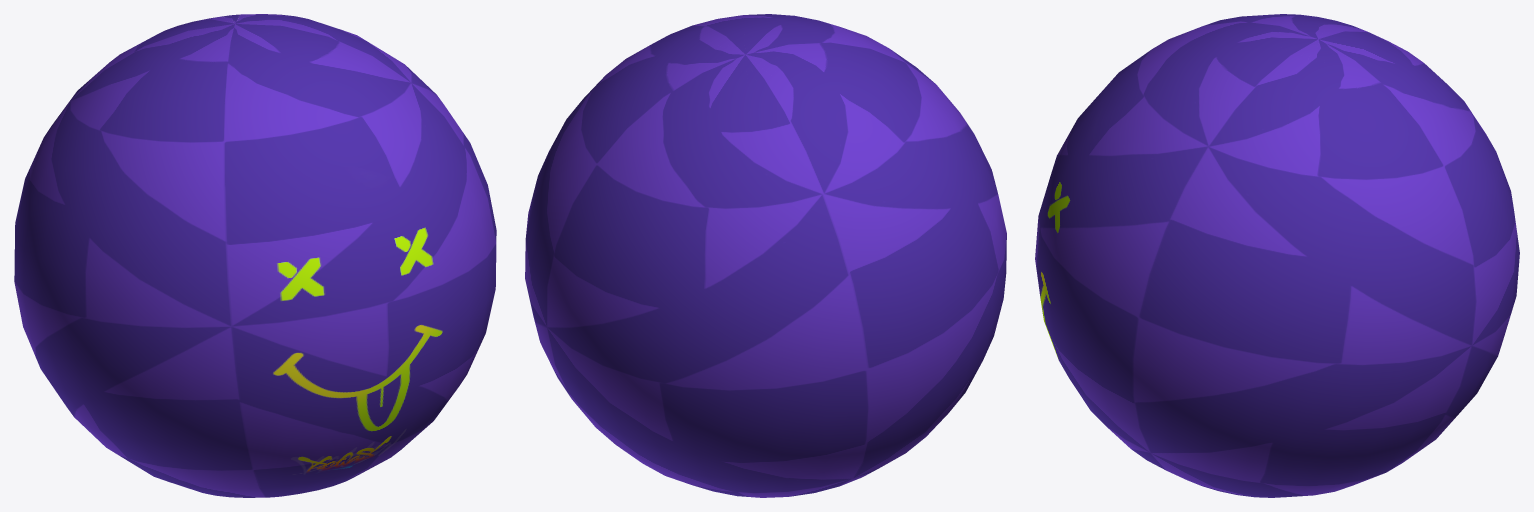
The model's file is SlavaAvatar.glb.
3 renders of one model, left to right at view 1: azimuth 30°, elevation 25°; view 2: azimuth 150°, elevation 25°; view 3: azimuth 270°, elevation 25°, orthographic.
Parts seen in each view (by area): view 1: SlavaAvatar_; view 2: SlavaAvatar_; view 3: SlavaAvatar_.
Part boxes in pixels (bbox=[...]): SlavaAvatar_: bbox=[14, 14, 496, 497]; SlavaAvatar_: bbox=[525, 14, 1006, 497]; SlavaAvatar_: bbox=[1035, 14, 1519, 497].
Bounding box in the file's own units: 2 × 2 × 2.
1 material, 1 textured.
